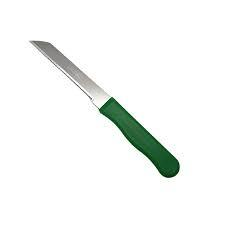Knife: (28, 39, 180, 178)
